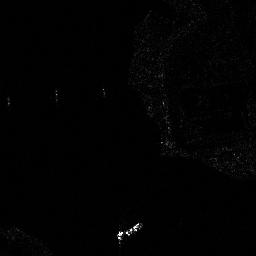ship: (116, 221, 141, 240)
